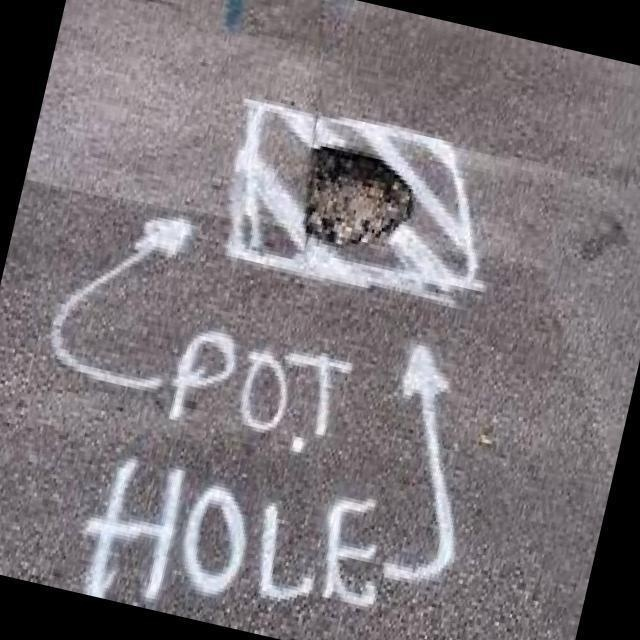pothole: (304, 149, 416, 249)
